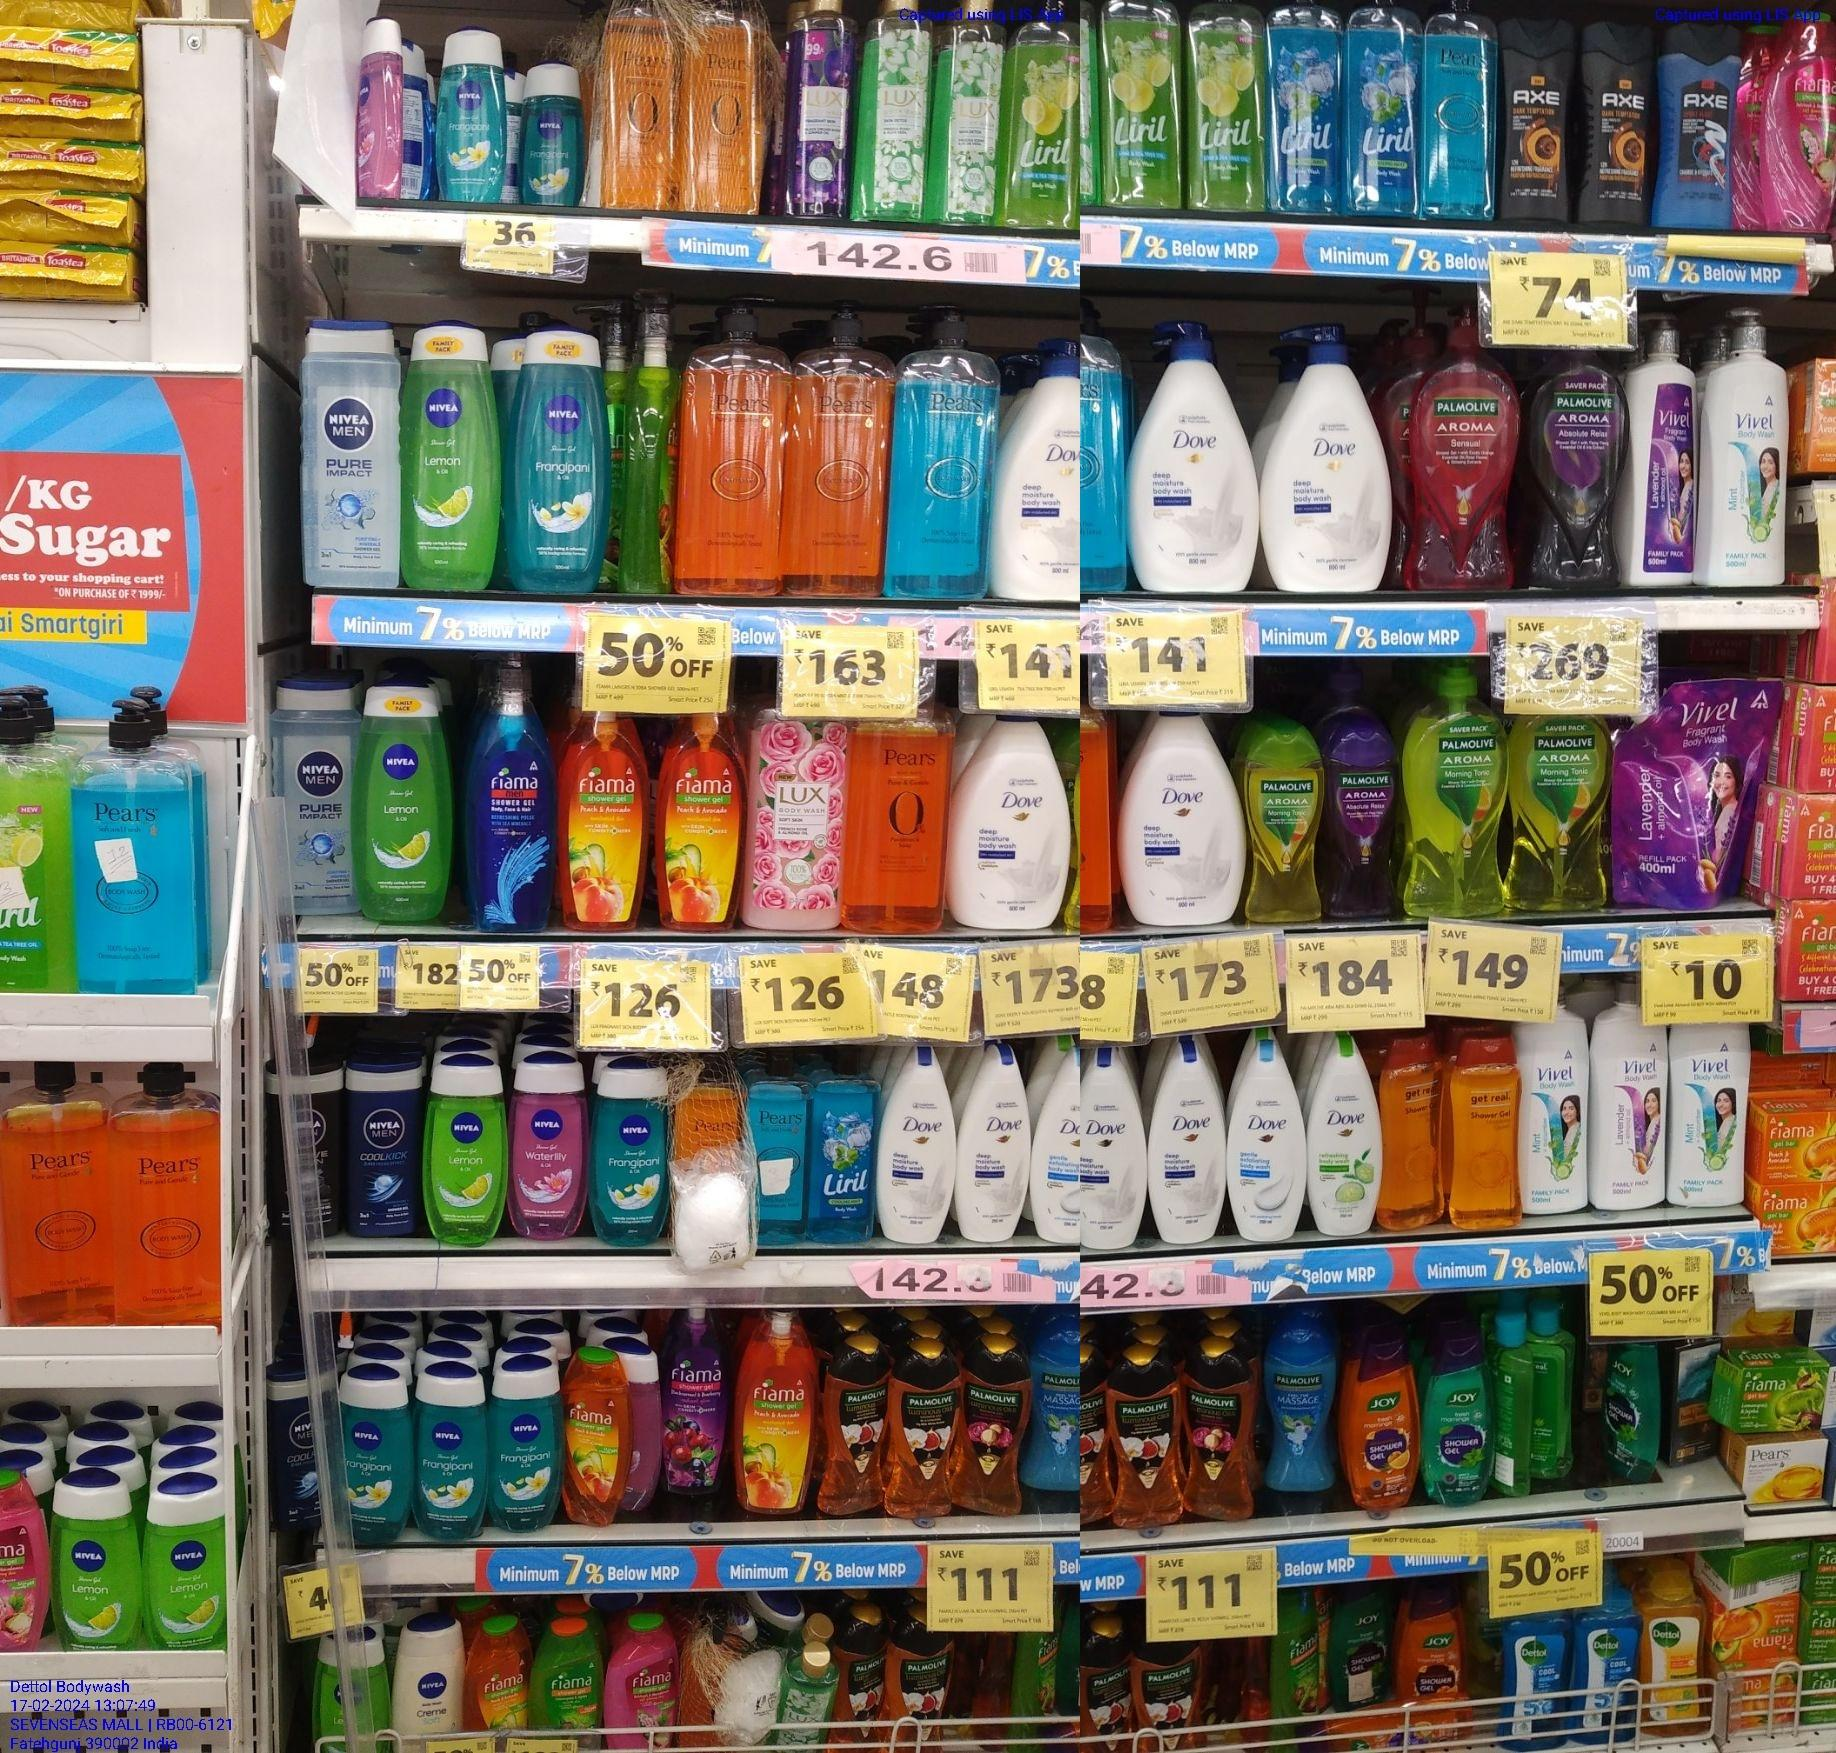Dettol_Bodywash_Cool: (1577, 1596, 1643, 1746), (1503, 1619, 1570, 1750)
Dettol_Bodywash_Refresh: (1643, 1582, 1711, 1733)
Dove_Deep_Moisture_Body_Wash_250ML: (1149, 1040, 1223, 1245), (880, 1043, 956, 1241), (957, 1045, 1028, 1241)
Dove_Gentle_Exfoliating_Body_Wash_250ML: (1226, 1043, 1308, 1243)
Dove_Refreshing_Body_Wash_250ML: (1311, 1036, 1384, 1236)
Fiama_Shower_Gel_Lemongrass_and_Jojoba_250ML: (538, 1623, 603, 1748)
Fiama_Shower_Gel_Patchouli_and_Macadamia_250ML: (605, 1617, 679, 1746)
Fiama_Shower_Gel_Peach_and_Avocado_250ML: (559, 1353, 629, 1528), (464, 1620, 528, 1732)
Get_Real_Shower_Gel_Moisturising_Glycerin_300ML: (1451, 1036, 1521, 1232), (1387, 1038, 1444, 1227)
Joy_Shower_Gel_Mandarin_and_Lemongrass_250ML: (1351, 1345, 1416, 1510), (1400, 1586, 1464, 1735)
Joy_Shower_Gel_Mint_and_Eucalyptus_250ML: (1423, 1338, 1492, 1504)
Liril_Cooling_Mint_Body_Wash_250ML: (1272, 0, 1343, 218), (1351, 3, 1421, 218), (813, 1051, 877, 1238)
Liril_Lime_and_Tea_Tree_Oil_Body_Wash_250ML: (1188, 5, 1269, 210), (1107, 2, 1182, 210), (1015, 0, 1082, 230)
Lux_Black_Orchid_Scent_and_Juniper_Oil_Body_Wash_245ML: (787, 2, 849, 218)
Lux_Body_Wash_Skin_Detox_Freesia_Scent_and_Alove_Vera_245ML: (862, 0, 926, 220), (938, 2, 1000, 221)
Nivea_Shower_Gel_Frangipani_and_Oil_250ML: (521, 330, 610, 589), (593, 1058, 670, 1250), (411, 1369, 487, 1540), (336, 1373, 407, 1548), (436, 30, 503, 205), (495, 1361, 554, 1530)
Nivea_Shower_Gel_Lemon_and_Oil_250ML: (403, 320, 497, 595), (428, 1063, 508, 1246), (52, 1481, 134, 1648), (149, 1482, 226, 1648)
Nivea_Shower_Gel_Waterlily_and_Oil_250ML: (518, 1059, 584, 1240)
Palmolive_Aroma_Moments_Feel_The_Massage_Shower_Gel_250ML: (1267, 1325, 1334, 1491)
Palmolive_Aroma_Morning_Tonic_Shower_Gel_250ML: (1247, 728, 1321, 920)
Palmolive_Aroma_Relax_250ML: (1334, 715, 1398, 920)
Palmolive_Luminous_Oils_Invigorating_Macadamia_Oil_With_Peony_250ML: (956, 1346, 1023, 1514), (1192, 1346, 1249, 1520)
Palmolive_Luminous_Oils_With_White_Orchid_Shower_Gel_250ML: (1113, 1353, 1185, 1530), (892, 1346, 954, 1514), (825, 1341, 882, 1514)
Pears_Pure_Glycerin_and_Mint_Extracts_Body_Wash_250ML: (1425, 3, 1495, 220), (746, 1056, 813, 1245)
